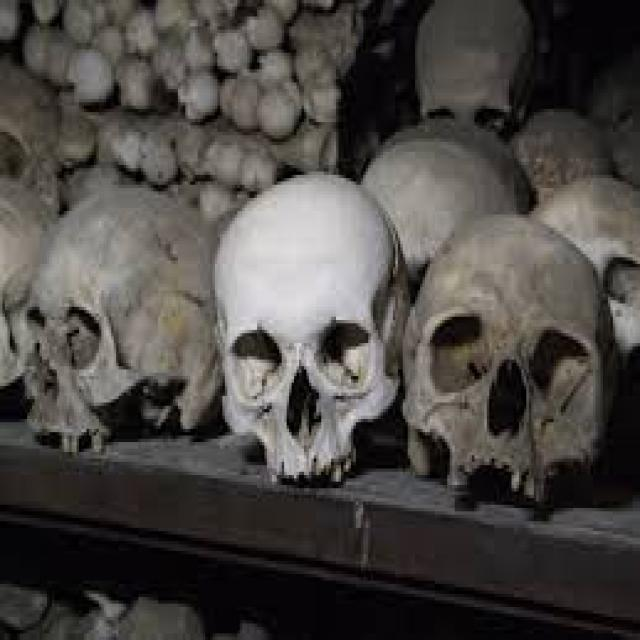skull: (208, 165, 404, 492)
